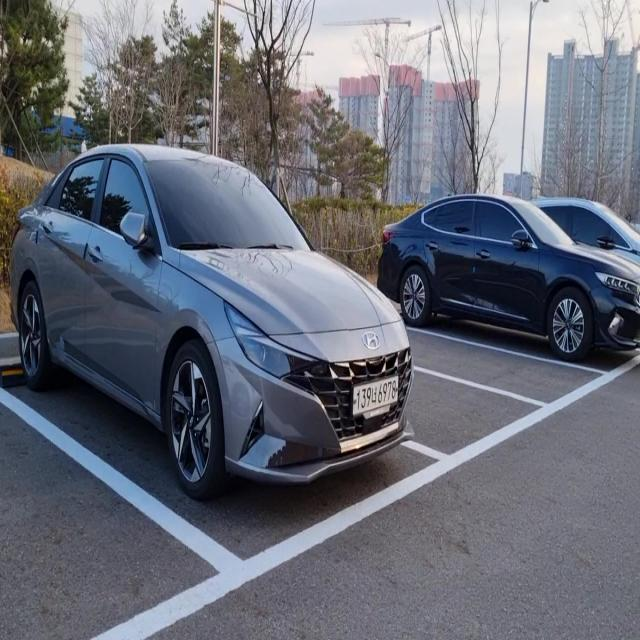empty: (398, 315, 609, 415), (404, 338, 556, 473)
occupied: (5, 144, 443, 594), (391, 205, 640, 378)
